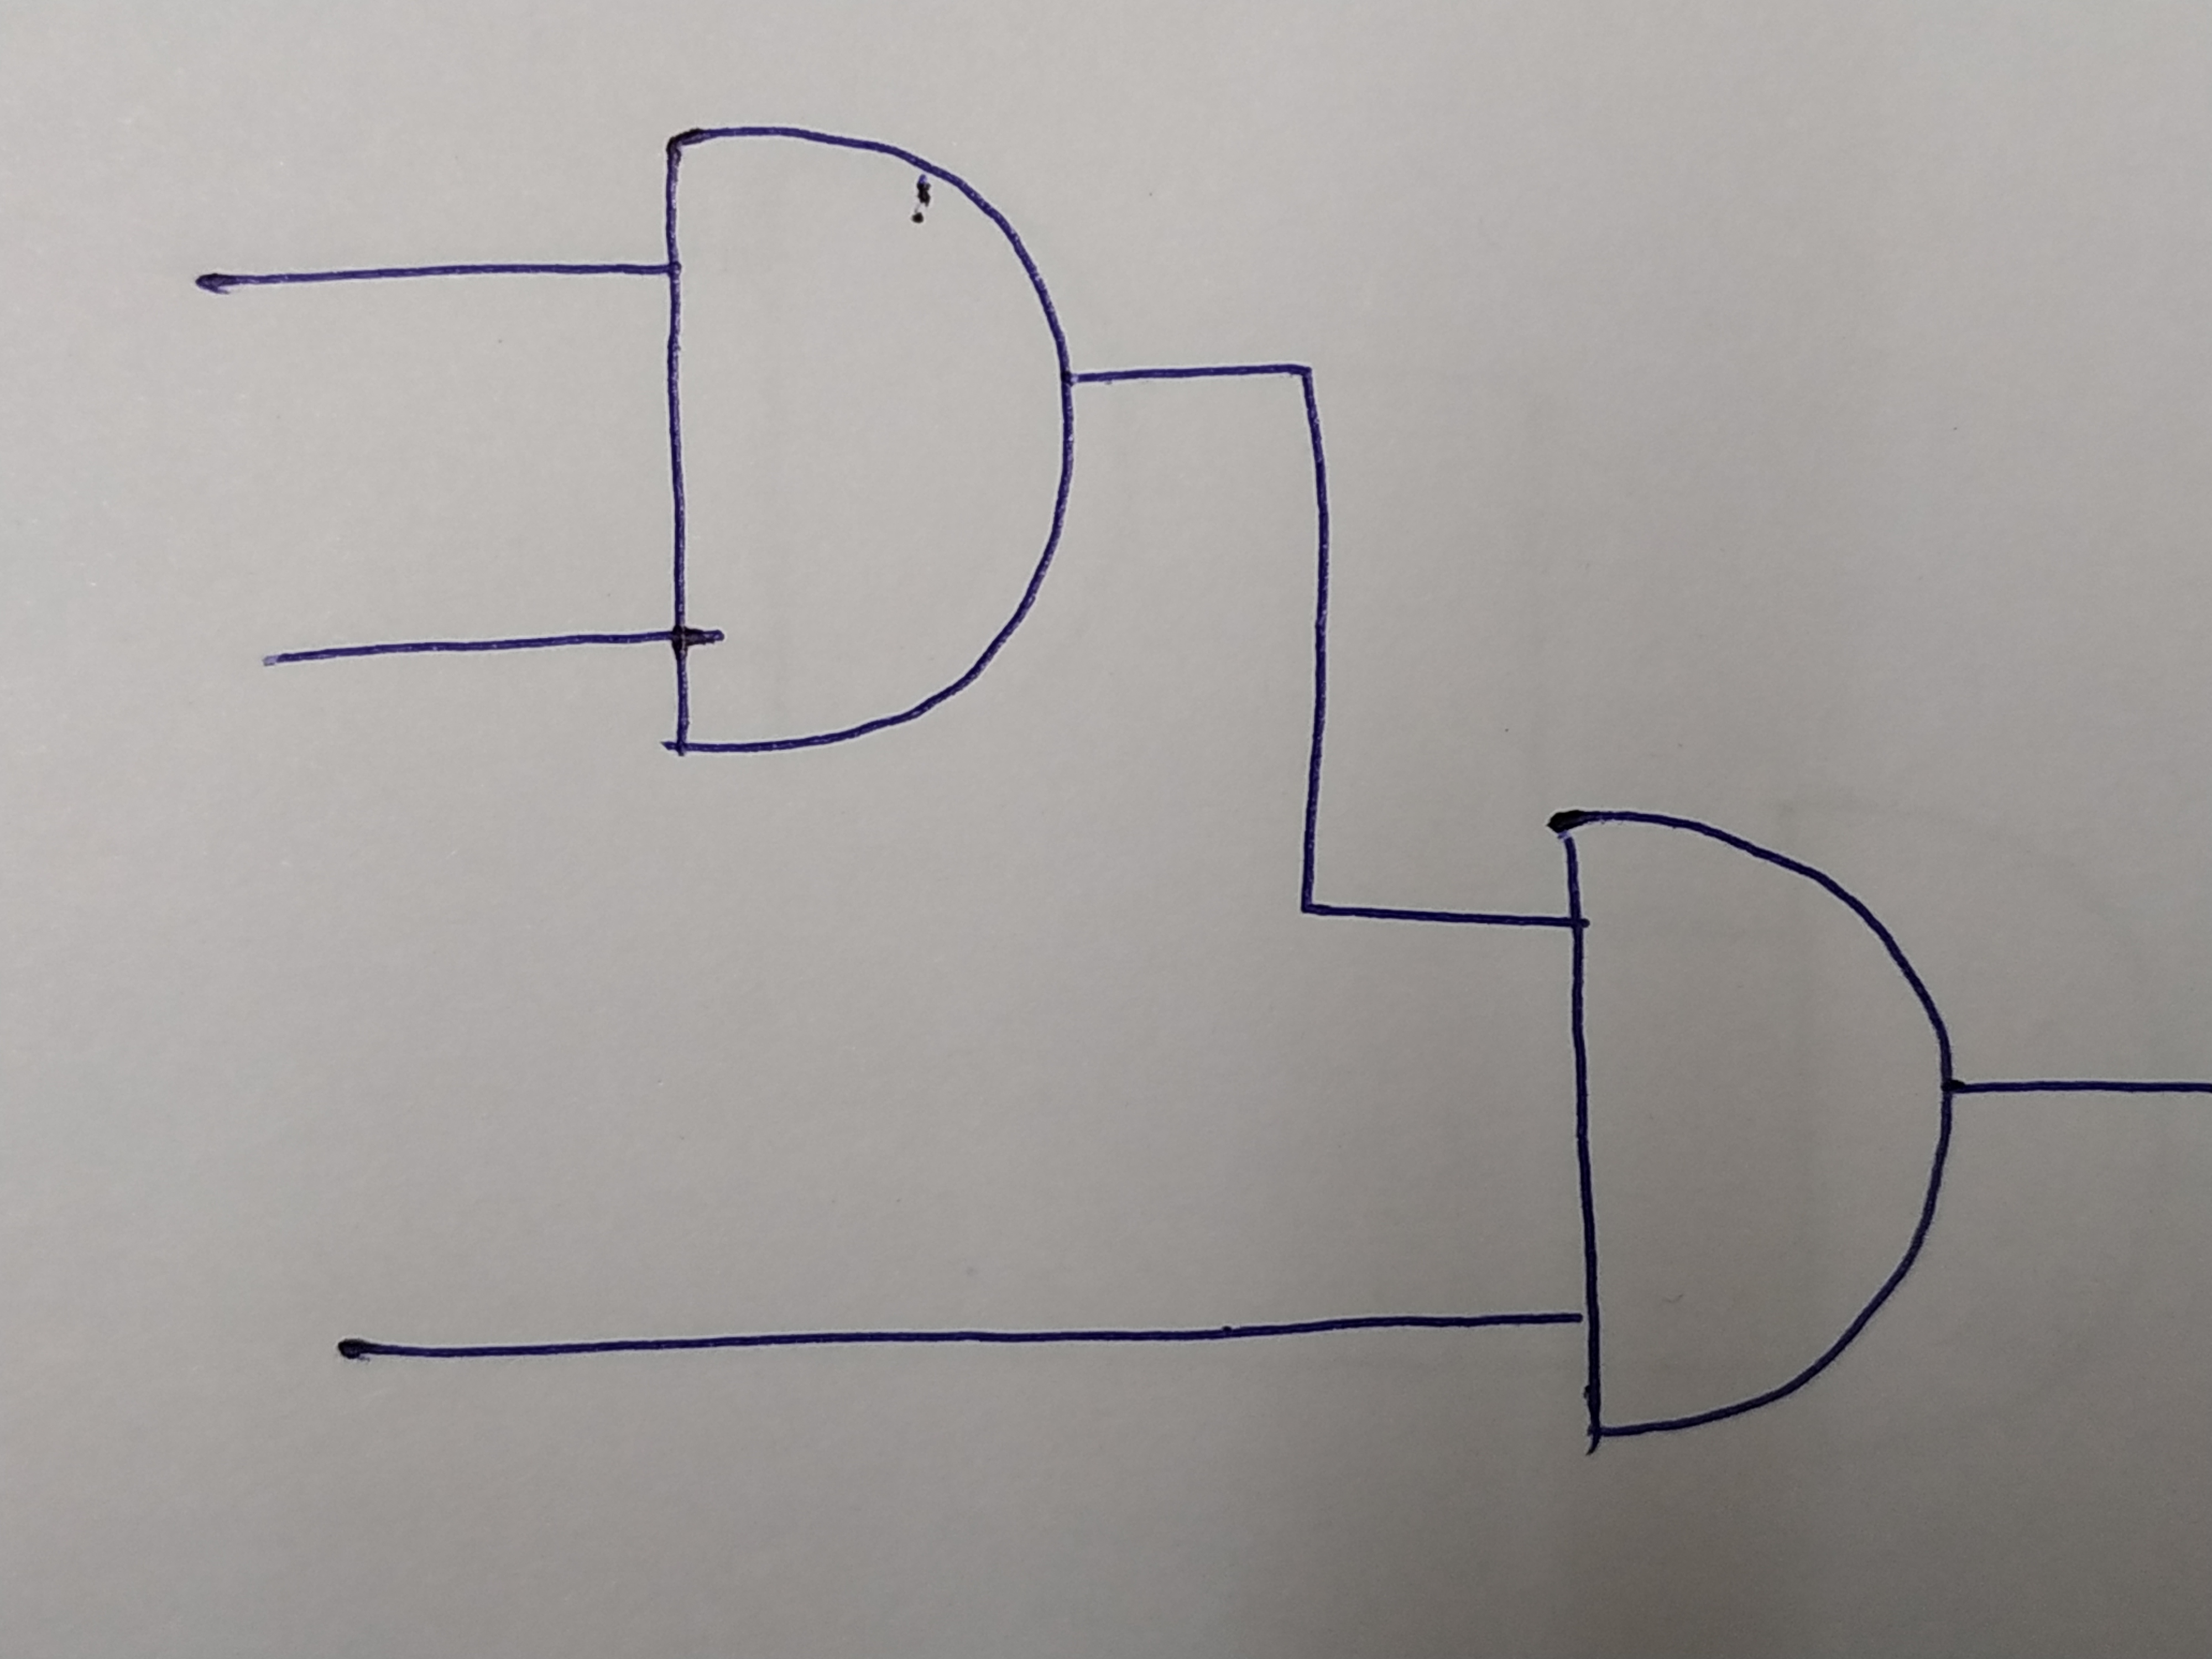and: (657, 125, 1068, 753), (1543, 812, 1952, 1441)
